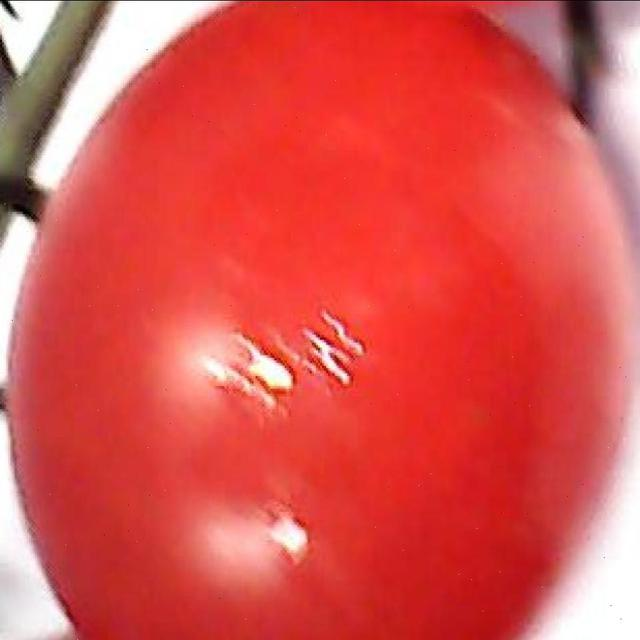Healthy Fruit: (4, 0, 427, 425)
